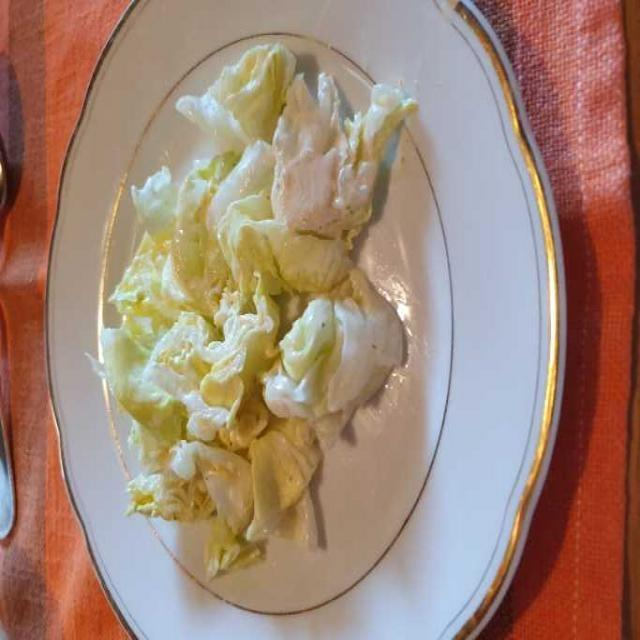salad: (110, 47, 414, 578)
